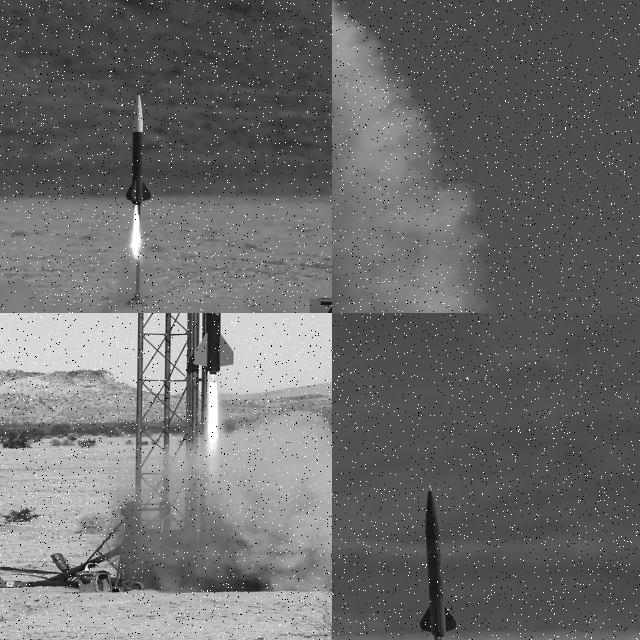Rocket: (417, 483, 458, 640), (126, 90, 152, 205), (191, 313, 236, 374)
